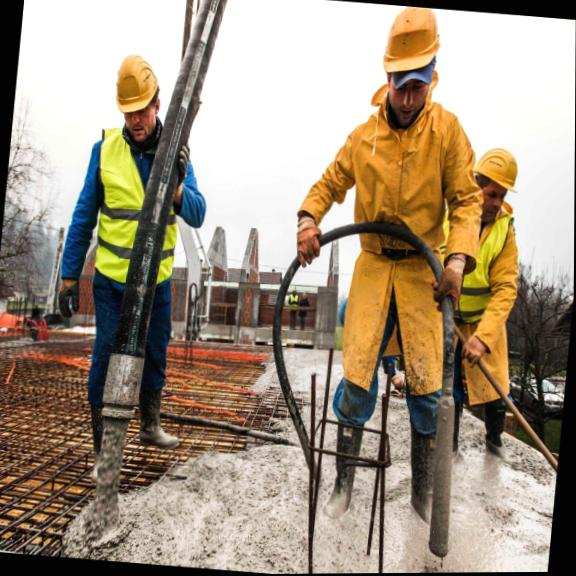no_safety_vest: (309, 91, 479, 306)
safety_vest: (59, 125, 194, 315), (433, 209, 518, 349)
